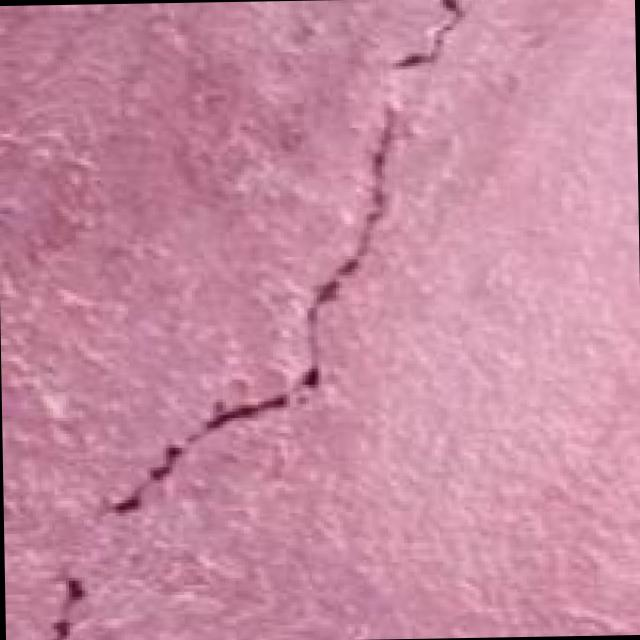crack: (39, 0, 479, 640)
